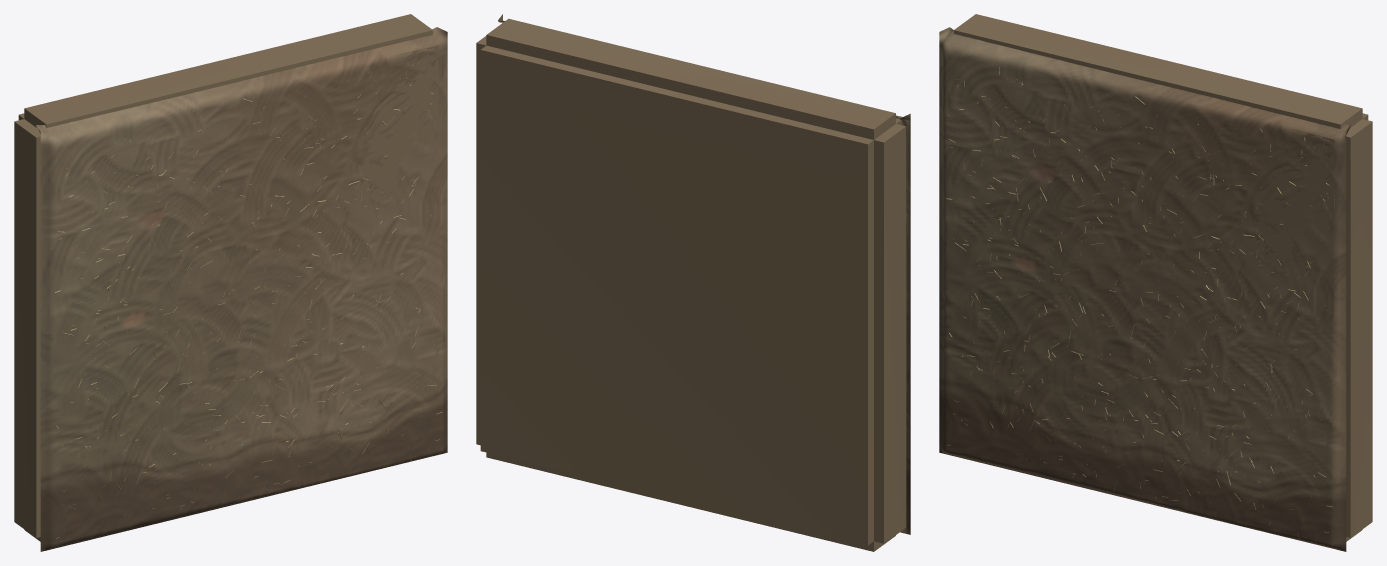
Rendered from mud_dung_panel.glb.
3 views of the same model, side by side, from view 1: azimuth 30°, elevation 25°; view 2: azimuth 150°, elevation 25°; view 3: azimuth 330°, elevation 25° (orthographic).
Parts seen in each view (by area): view 1: hb_props; view 2: hb_props; view 3: hb_props.
Part boxes in pixels (x1=…): hb_props: x1=14, y1=14, x2=447, y2=551; hb_props: x1=476, y1=14, x2=910, y2=551; hb_props: x1=939, y1=14, x2=1372, y2=551.
Bounding box in the file's own units: 2 × 1.98 × 0.3296.
